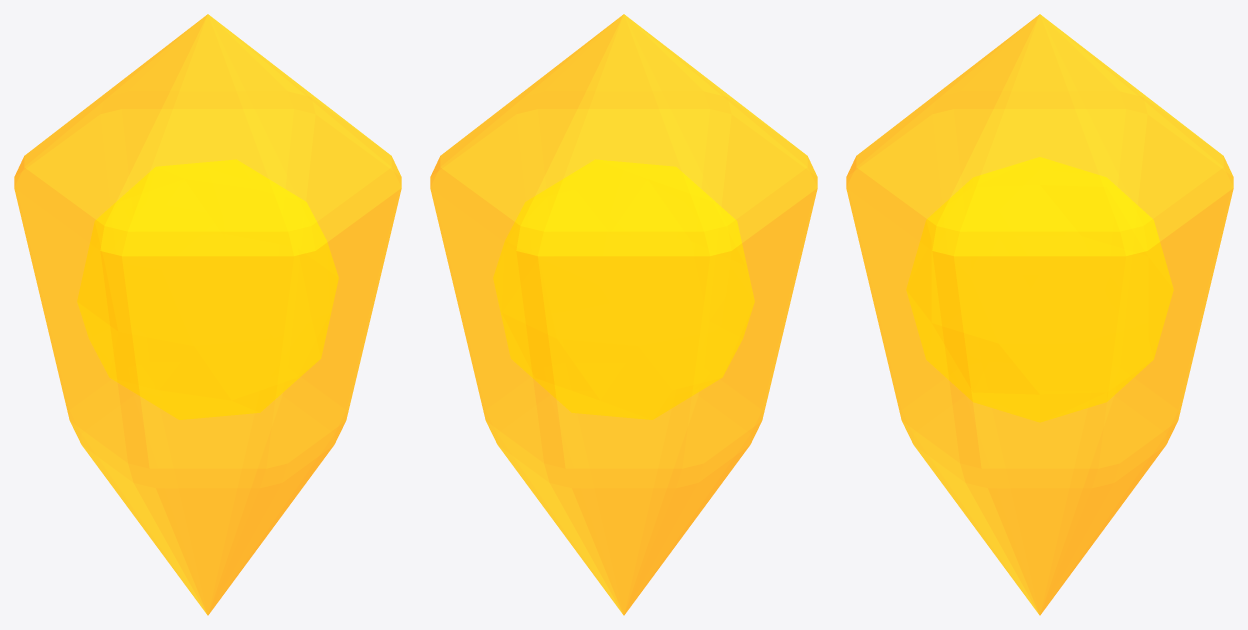
Rendered from poin.xx.fbx.
3 renders of one model, left to right at view 1: azimuth 30°, elevation 25°; view 2: azimuth 150°, elevation 25°; view 3: azimuth 270°, elevation 25°, orthographic.
Parts seen in each view (by area): view 1: Cube.001; view 2: Cube.001; view 3: Cube.001.
Boxes of the visible parts, x1=… form: Cube.001: x1=14, y1=14, x2=401, y2=615; Cube.001: x1=430, y1=14, x2=817, y2=615; Cube.001: x1=846, y1=14, x2=1233, y2=615.
Bounding box in the file's own units: 2.44 × 4.66 × 2.72.
